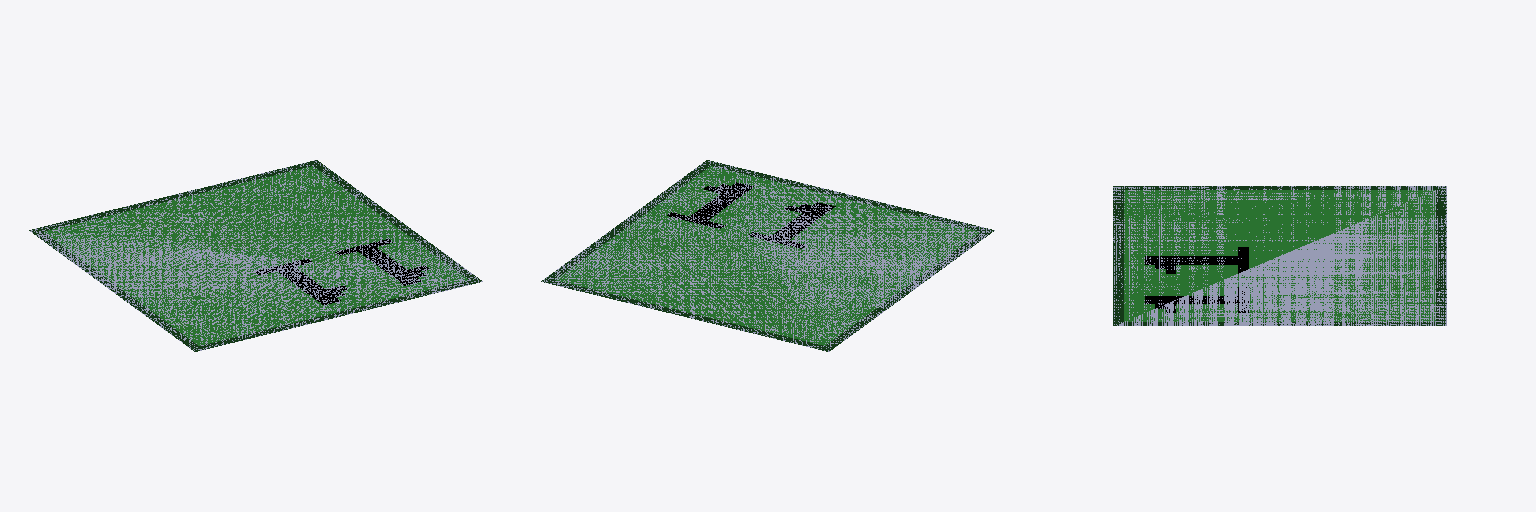
3 renders of one model, left to right at view 1: azimuth 30°, elevation 25°; view 2: azimuth 150°, elevation 25°; view 3: azimuth 270°, elevation 25°, orthographic.
Parts seen in each view (by area): view 1: Mesh1 Model; view 2: Mesh1 Model; view 3: Mesh1 Model.
Boxes of the visible parts, x1=… form: Mesh1 Model: x1=29, y1=160, x2=482, y2=351; Mesh1 Model: x1=541, y1=160, x2=994, y2=351; Mesh1 Model: x1=1113, y1=186, x2=1446, y2=325.
Size of the model in its own units: 32 by 0 by 32.
Materials: 2 (1 with a texture image).